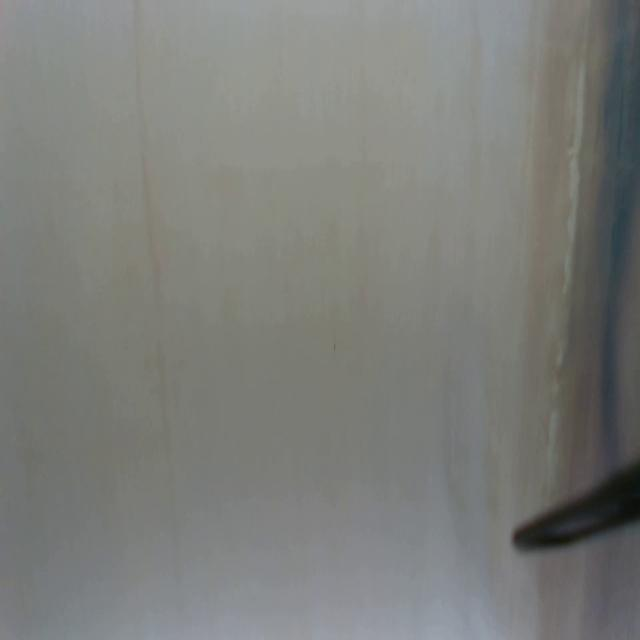color bleeding: (511, 0, 640, 467)
crease: (131, 10, 184, 615)
hole: (332, 340, 338, 353)
